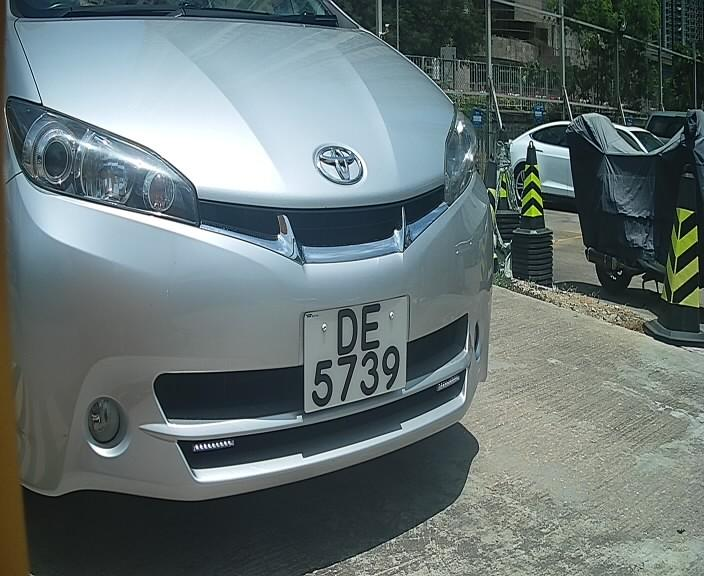License Plate: (296, 289, 419, 430)
